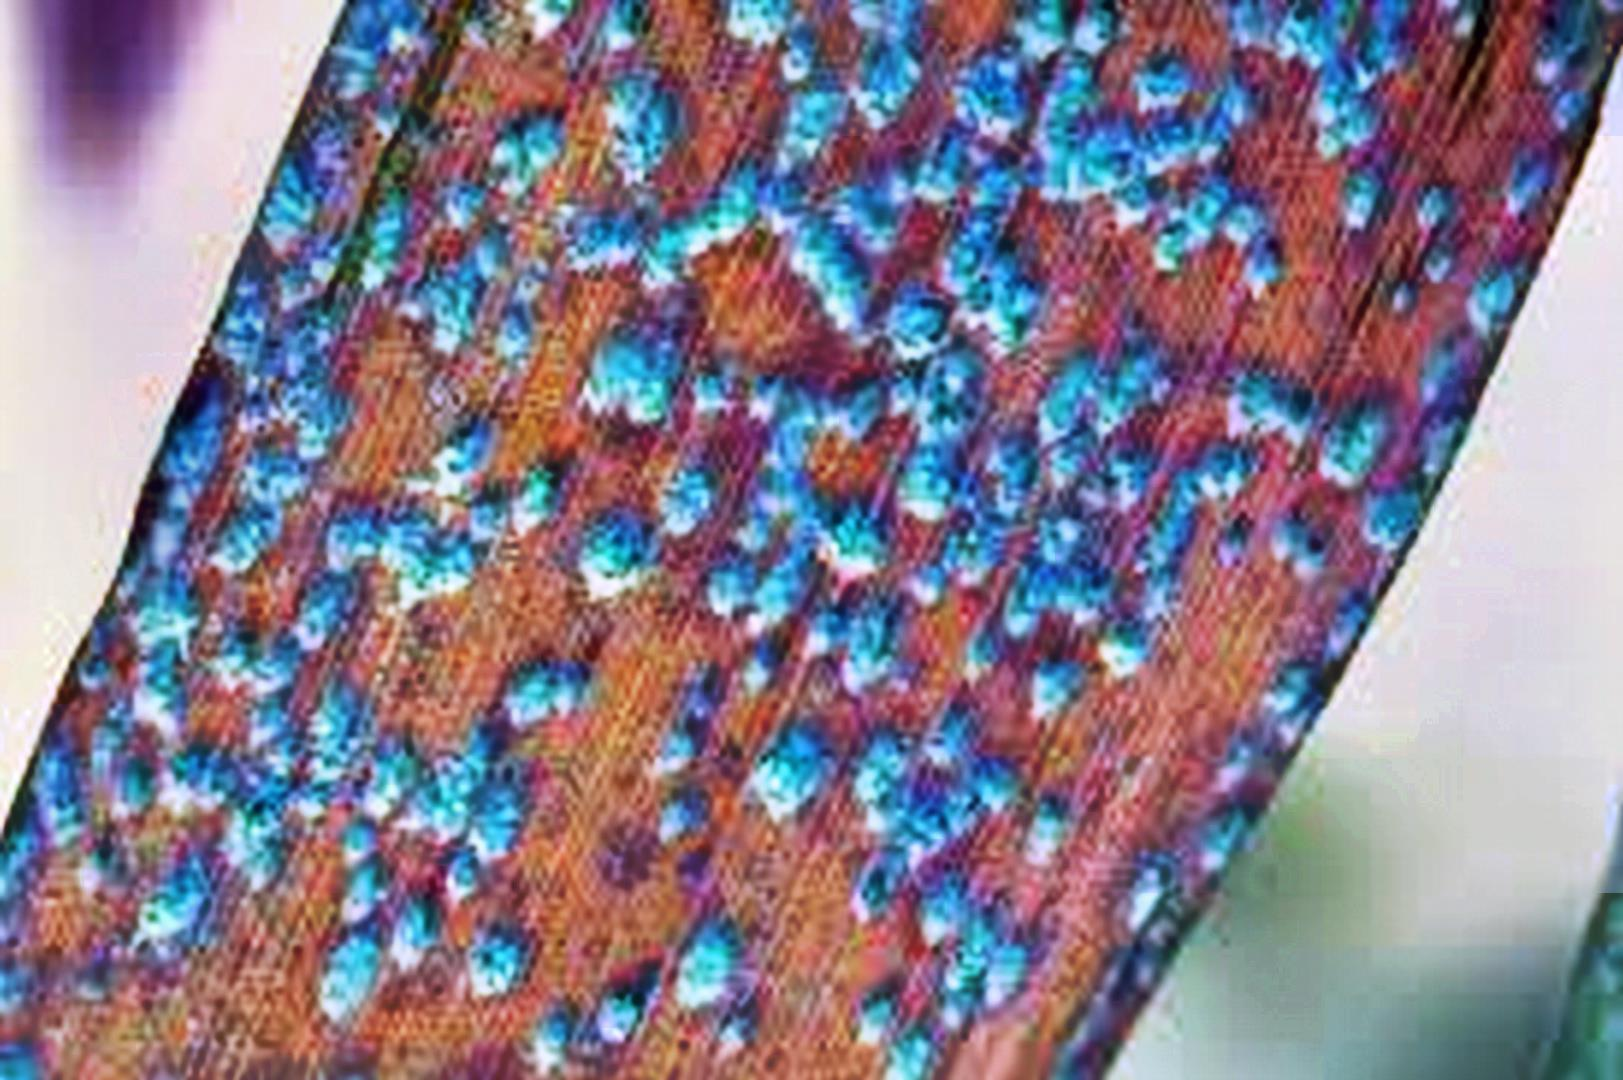Leaf Rust: (105, 39, 1476, 1014)
